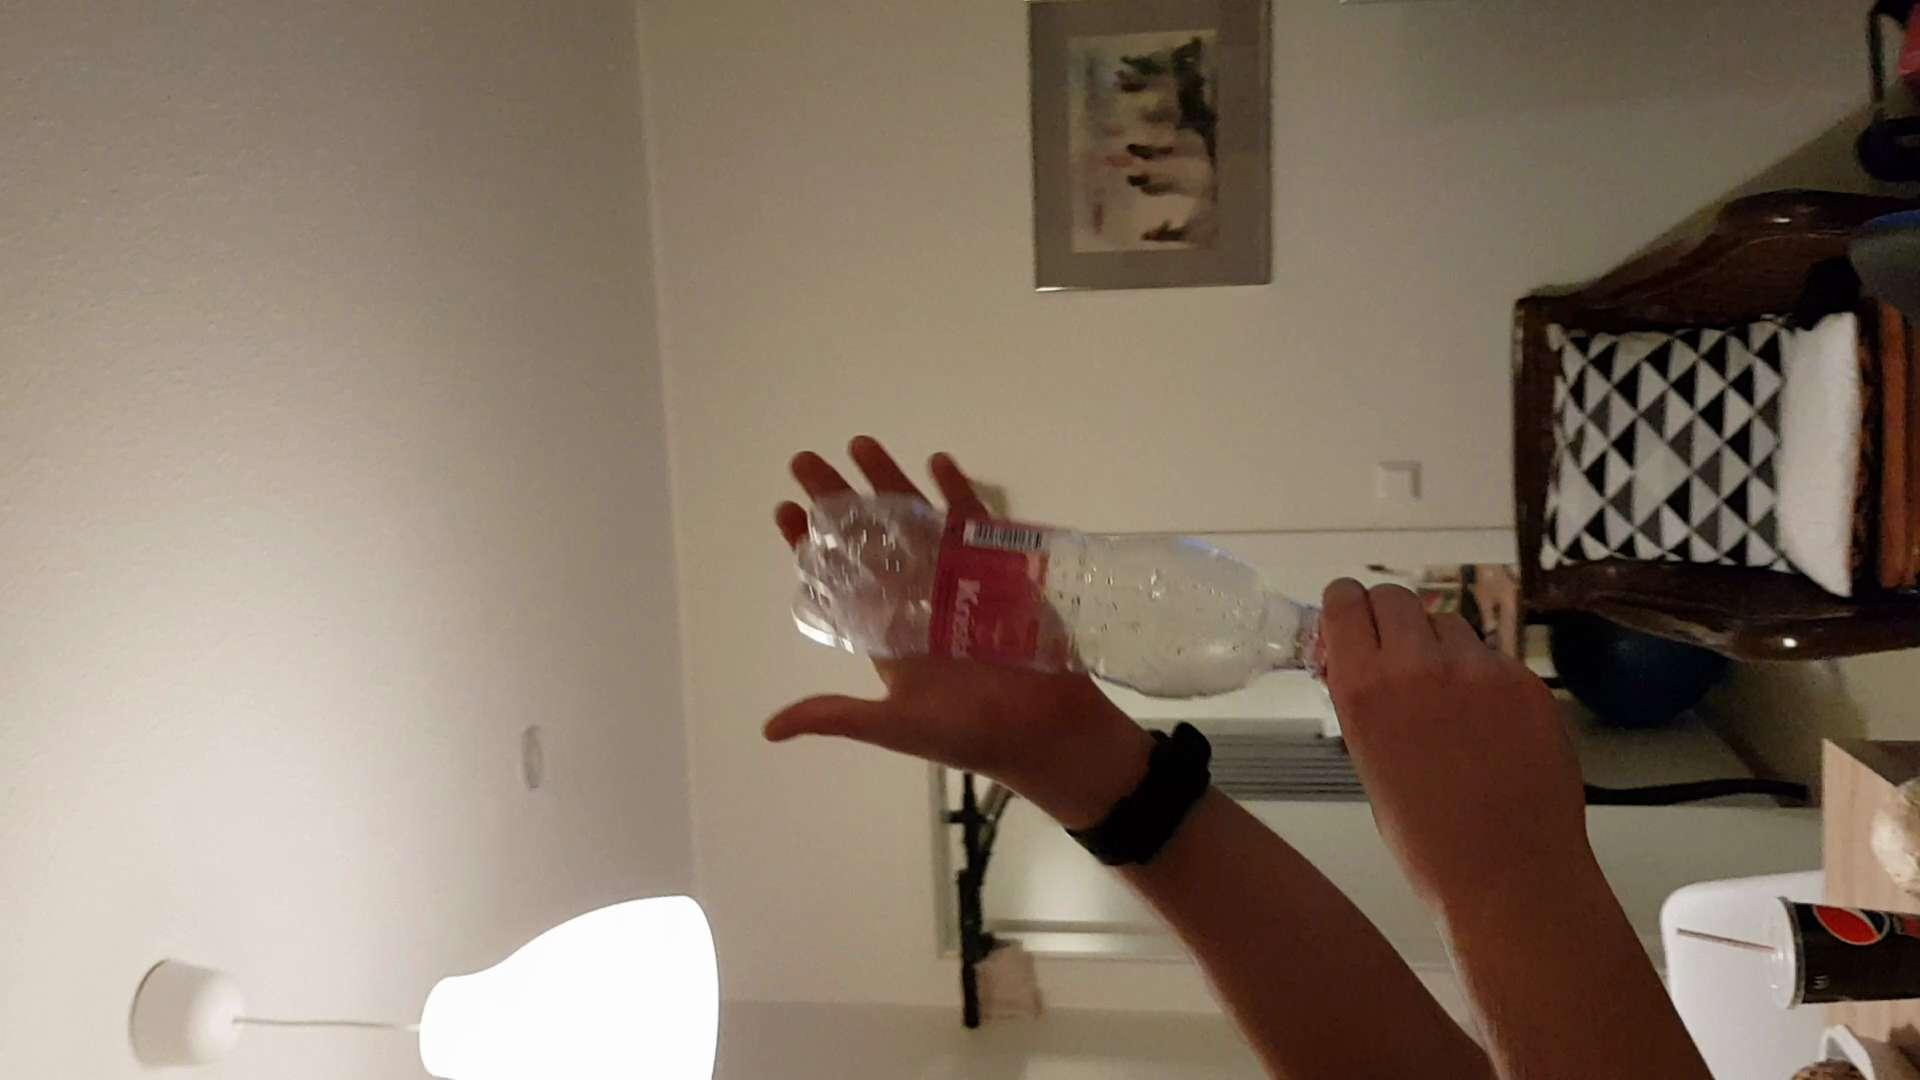Bottle: (785, 485, 1373, 695)
